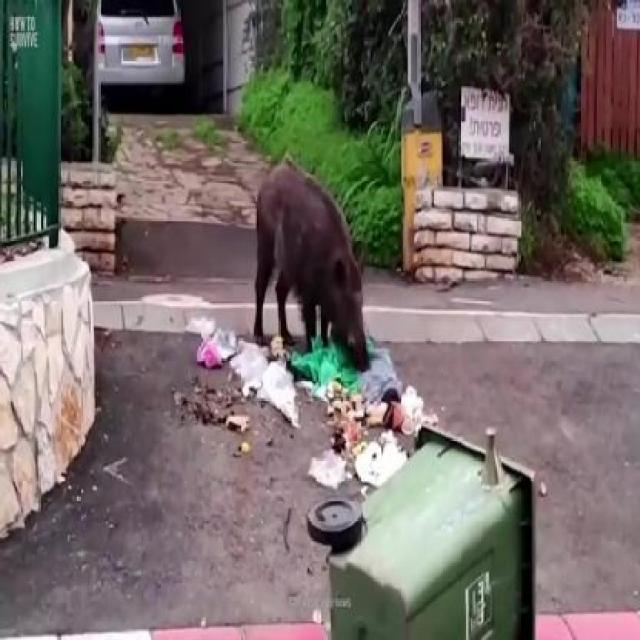WildBoar: (246, 166, 371, 383)
